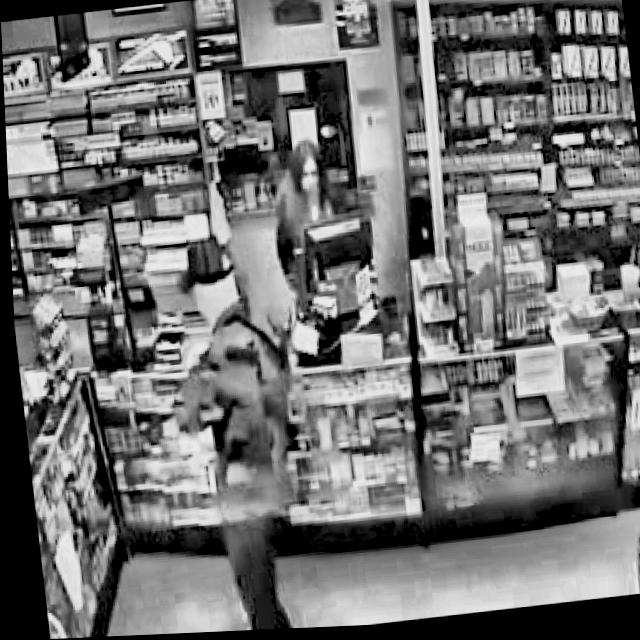robbery: (138, 219, 331, 635)
